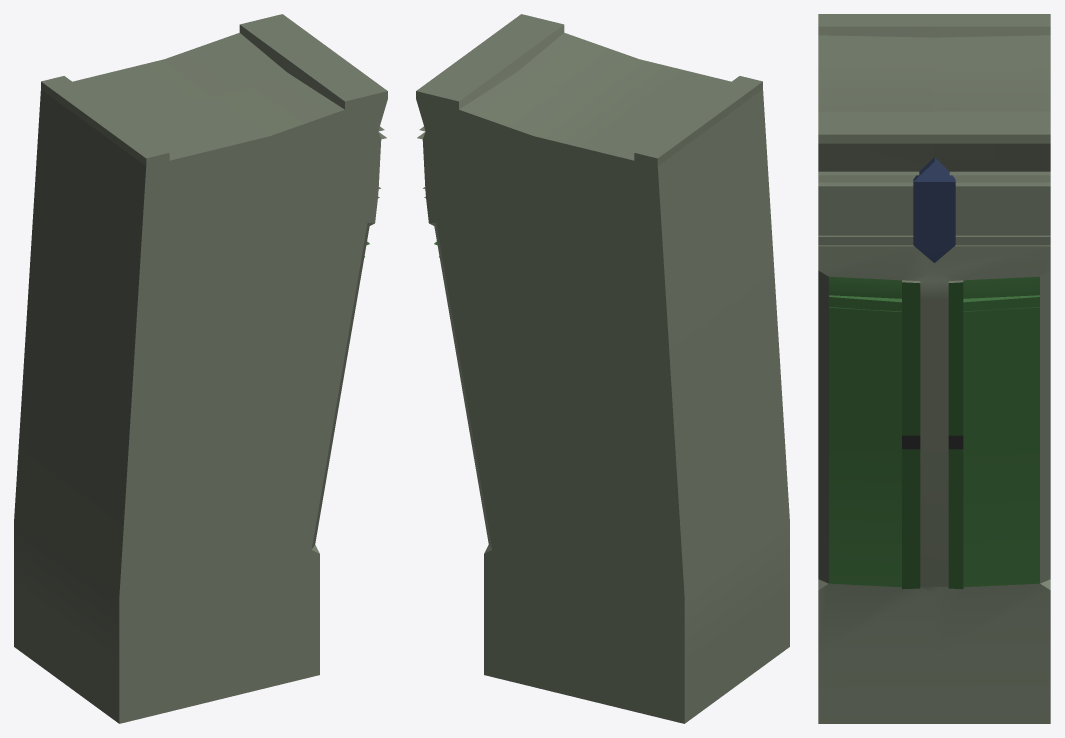
File: Locker.fbx
3 renders of one model, left to right at view 1: azimuth 30°, elevation 25°; view 2: azimuth 150°, elevation 25°; view 3: azimuth 270°, elevation 25°, orthographic. The views are drawn at different scales.
Parts seen in each view (by area): view 1: pCube1; view 2: pCube1; view 3: pCube1.
Boxes of the visible parts, box(x1,y1,x2,y2) form: pCube1: box(14, 14, 387, 723); pCube1: box(416, 14, 789, 723); pCube1: box(818, 14, 1050, 723).
Bounding box in the file's own units: 3.24 × 6.48 × 2.18.
